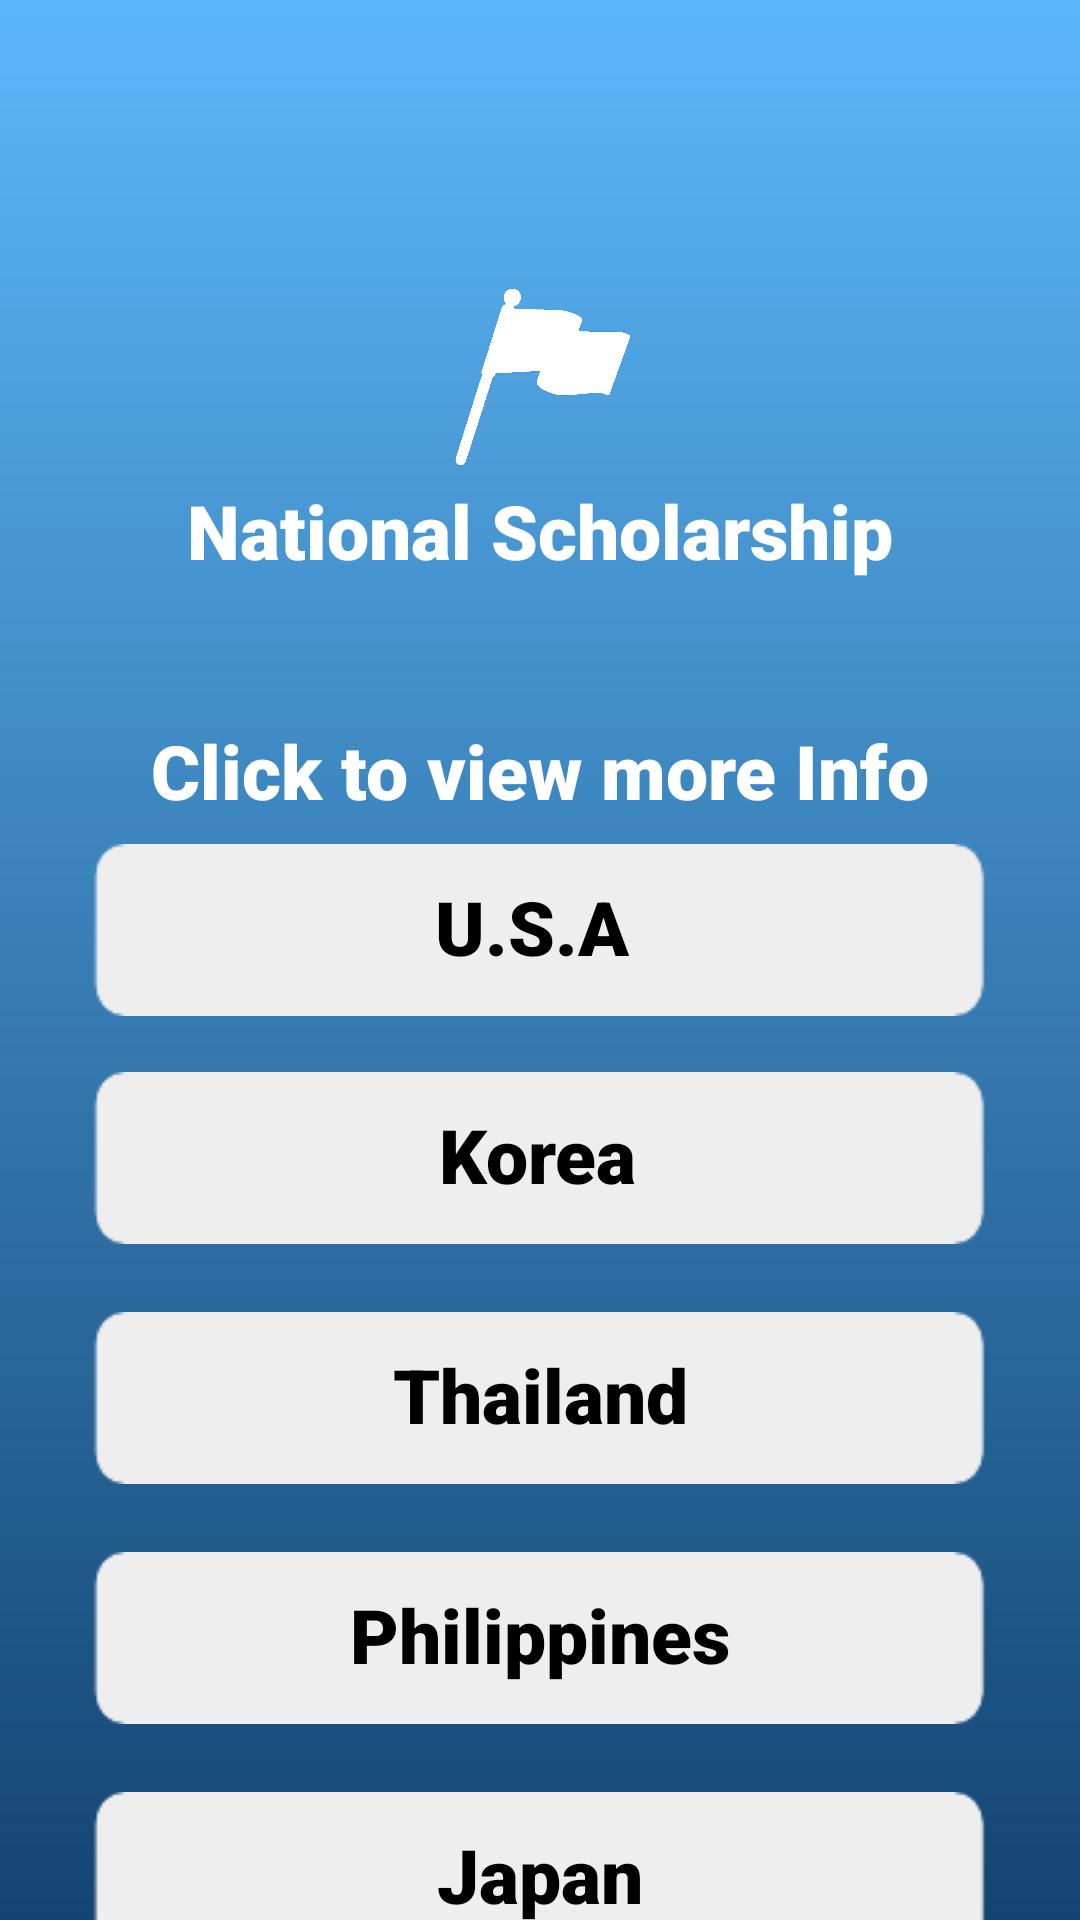

Screen size 1080×1920. Icon name, then its center in pixels as [x,y]:
pic sch flag: [540,388]
